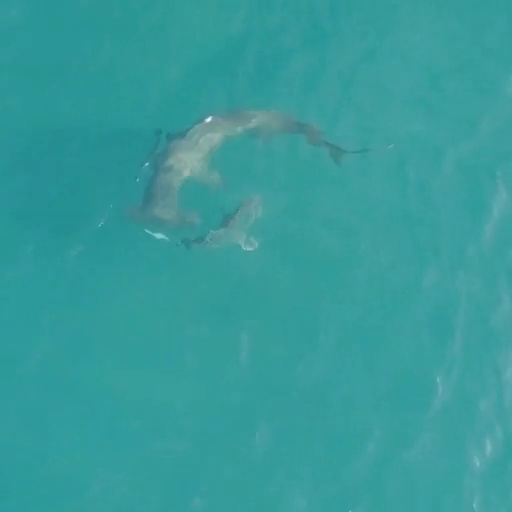shark: (122, 107, 375, 234)
